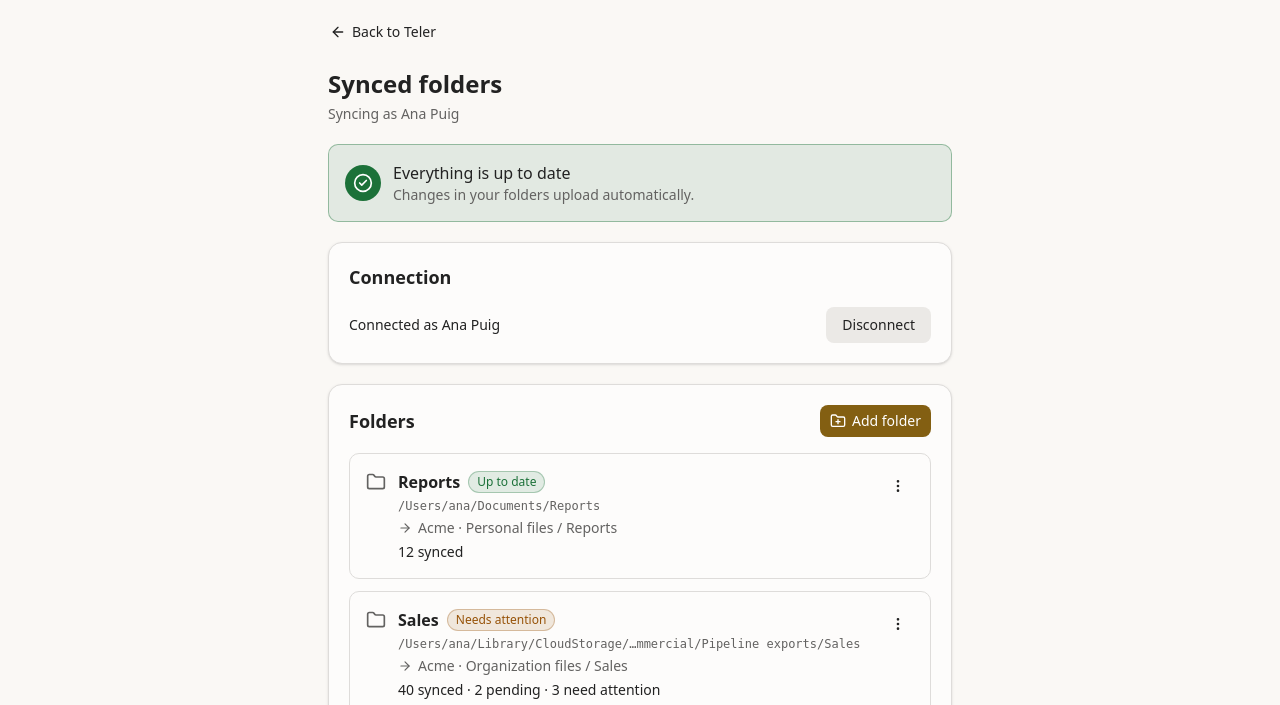
Test: folders › returns focus to the row menu when the confirmation is cancelled
Expected: the element with test id "status-banner" is shown, [328, 144, 952, 222]
Click the button named "Actions for Reports" at (898, 486), box [882, 470, 914, 502]
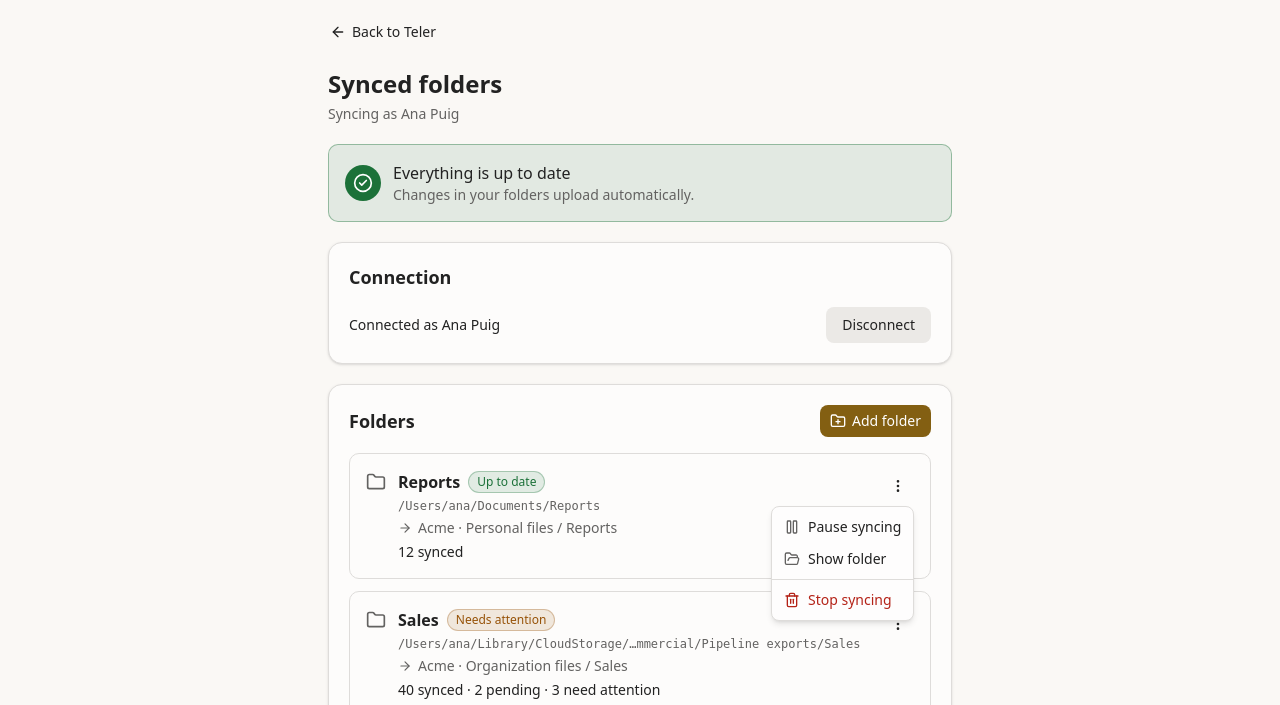
Click the menu item "Stop syncing" at (838, 600), box [784, 590, 892, 609]
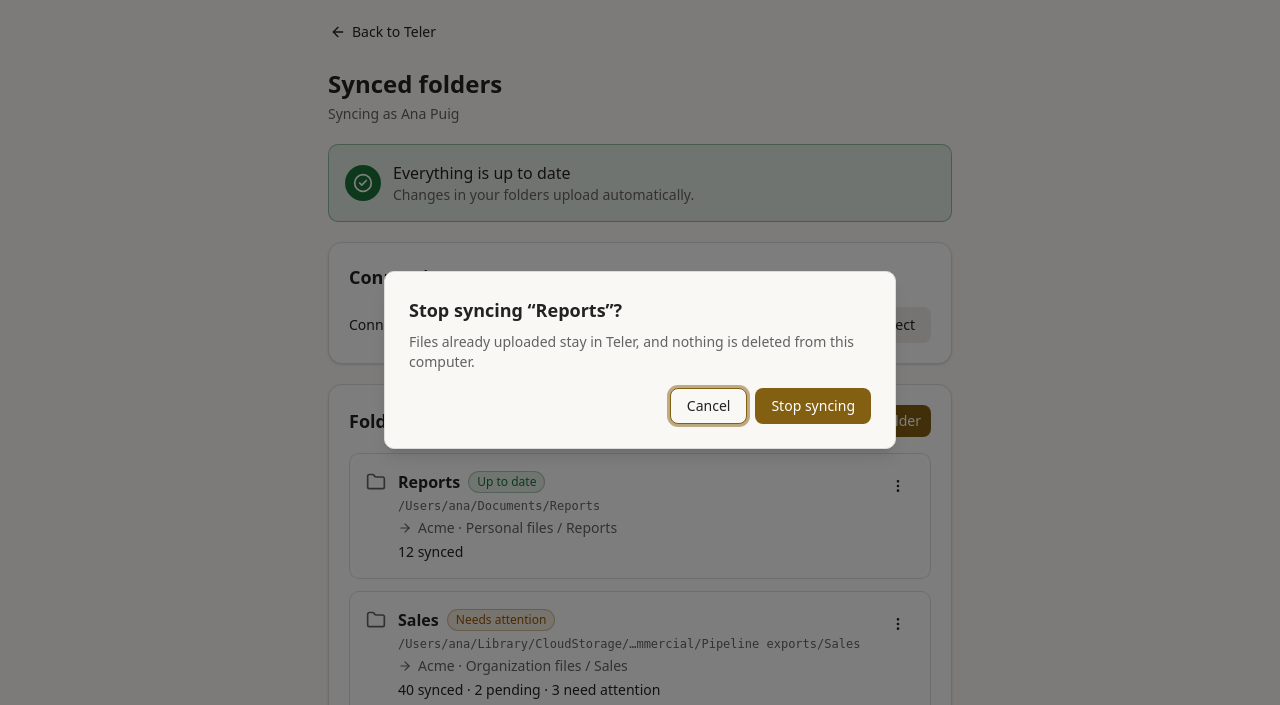
Press Escape
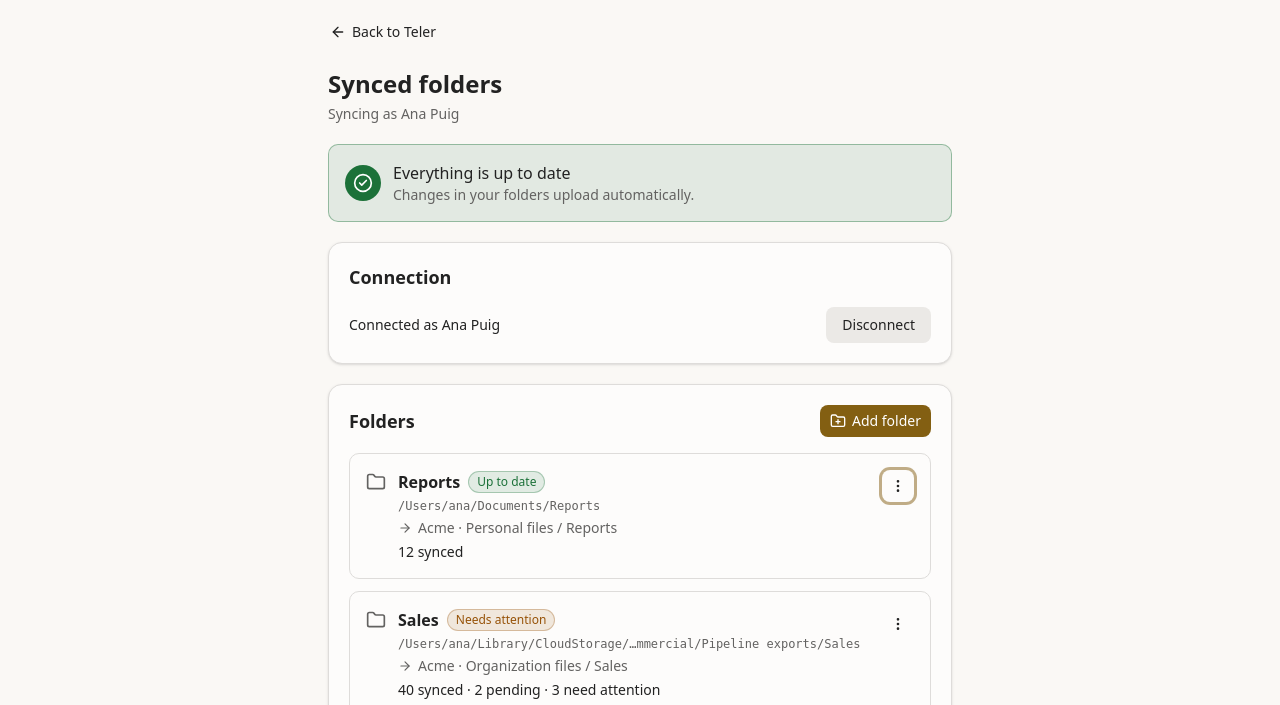
Now the dialog is gone
